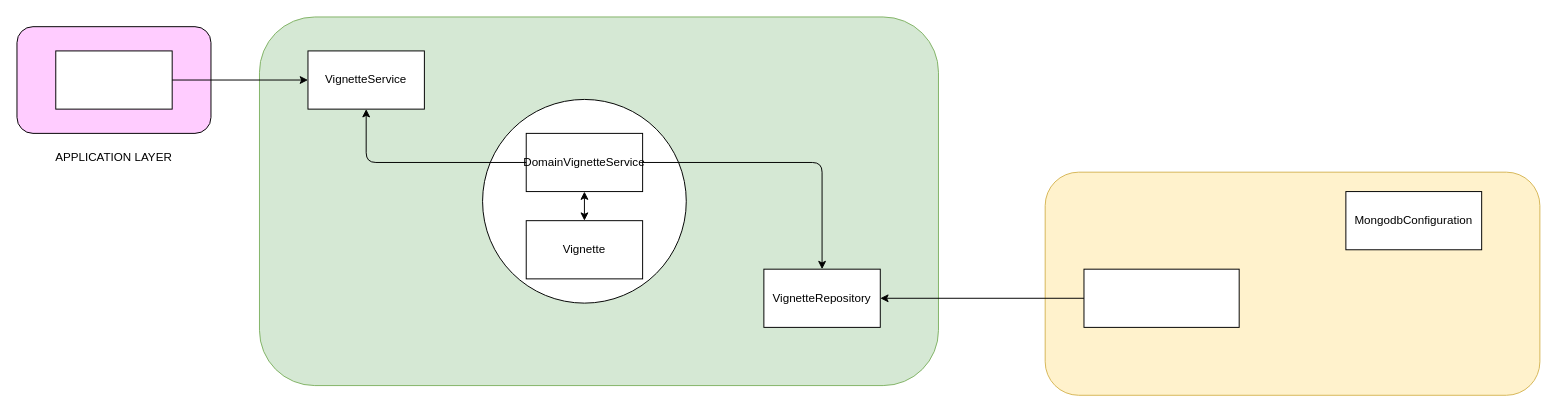
This 1557x412 diagram has some shape labels left out. The centre of each missing label's shape, as x and y in pixels:
MongoDbVignetteRepository: the point at 1161,297
VignetteController: the point at 113,79
